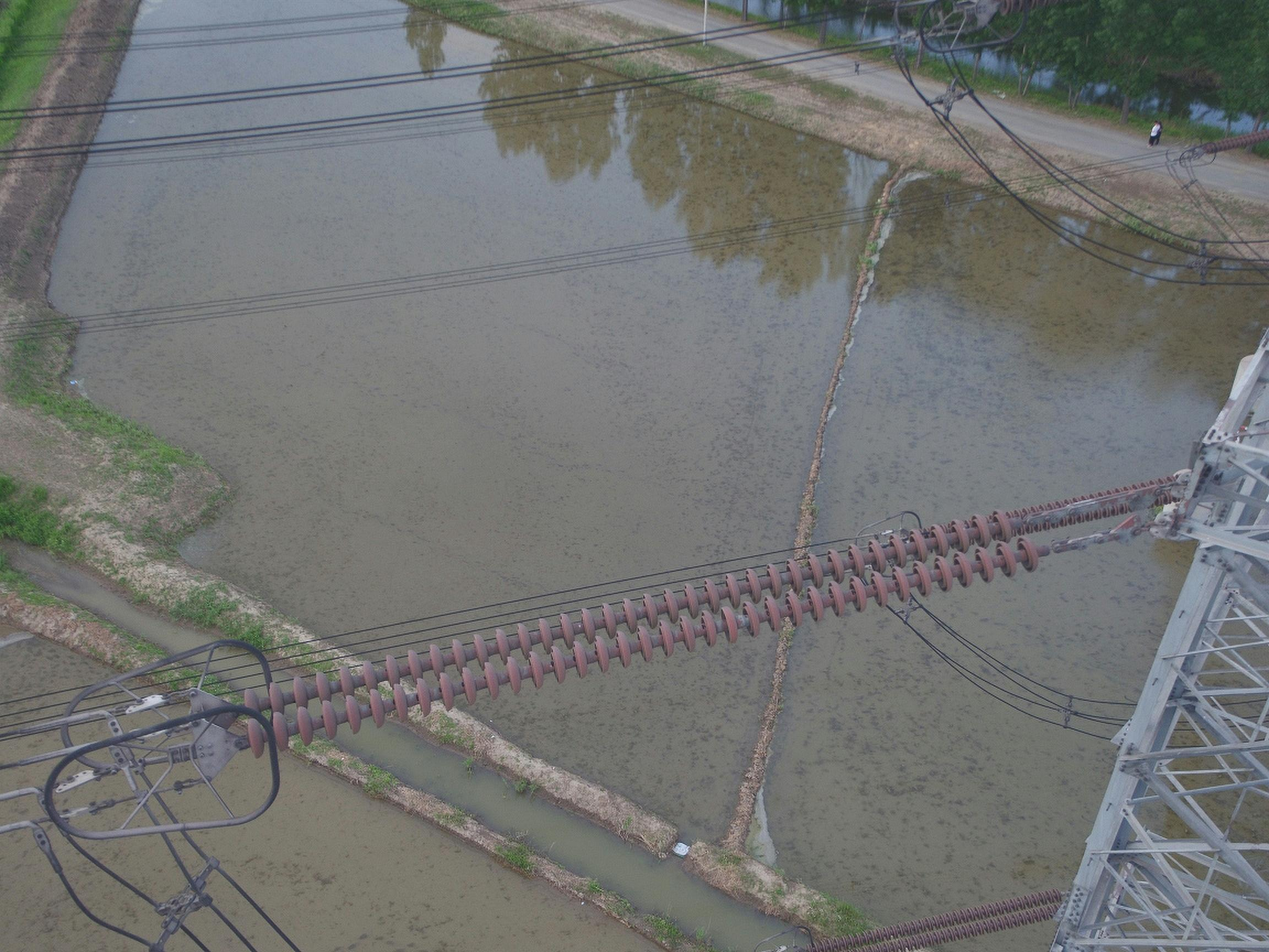insulator: (240, 507, 1043, 762), (912, 472, 1188, 555), (794, 885, 1066, 952), (1200, 127, 1269, 156)
